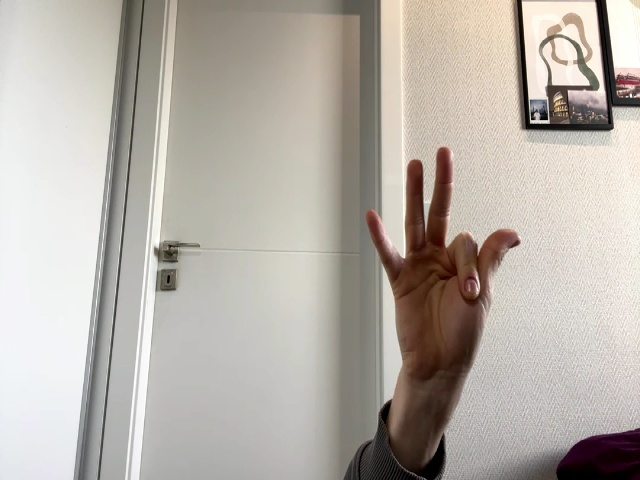F: (367, 147, 523, 374)
